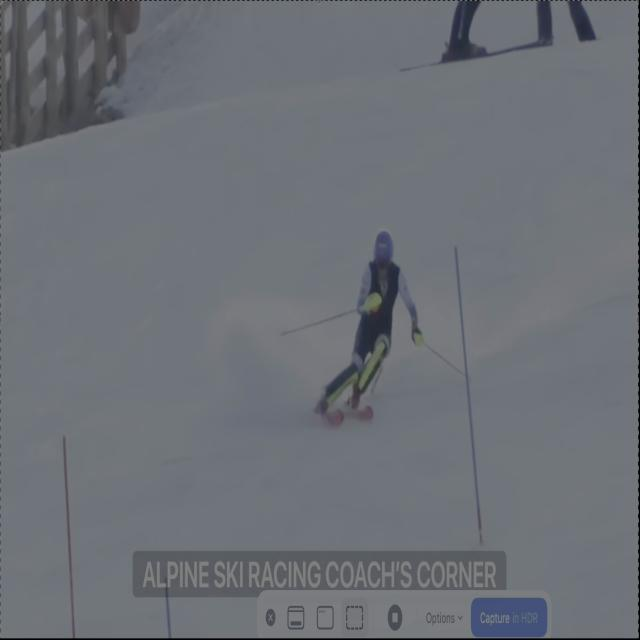gate: (429, 227, 493, 570), (41, 408, 84, 640)
